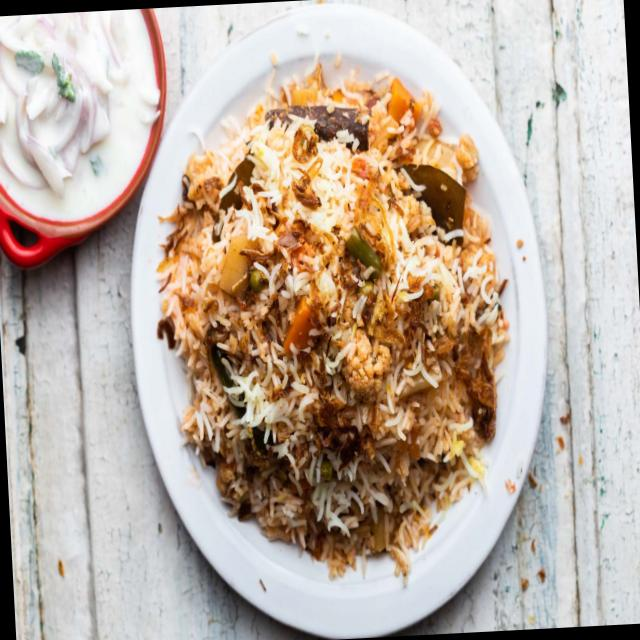Biryani: (161, 64, 508, 556)
